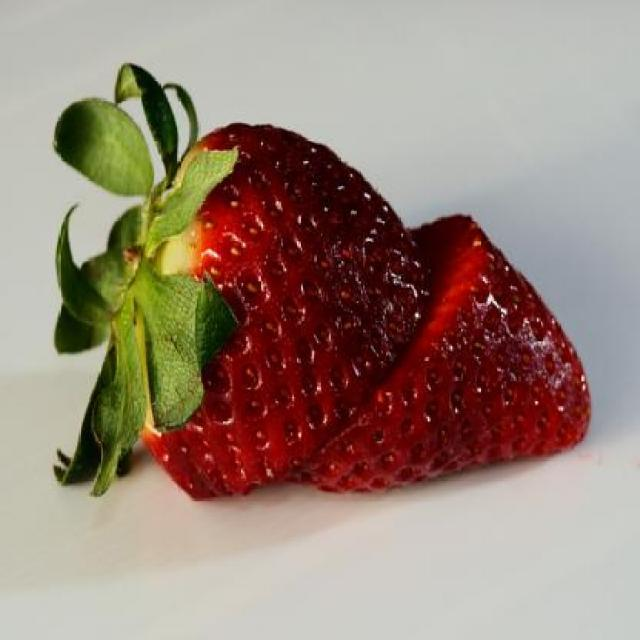Strawberry: (83, 92, 549, 491)
